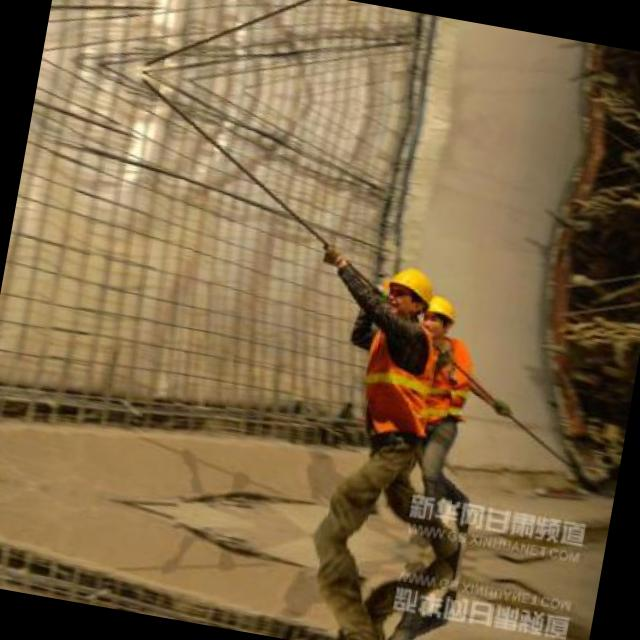helmet: (376, 258, 438, 326), (418, 291, 462, 338)
